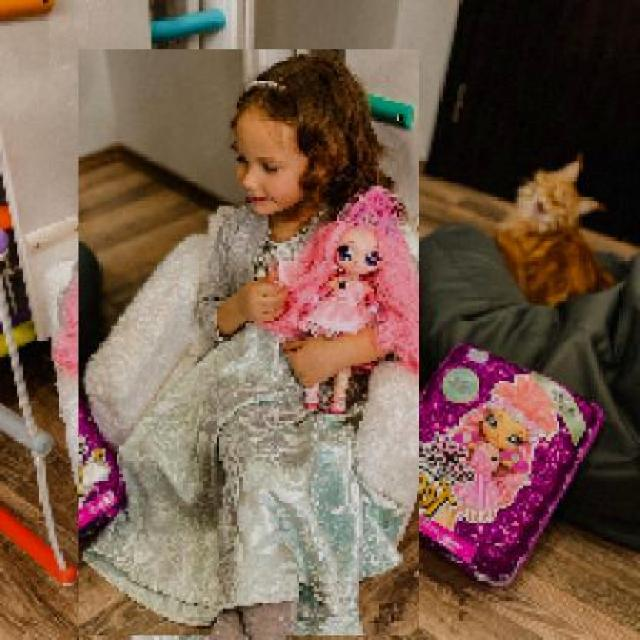child: (77, 49, 420, 637)
